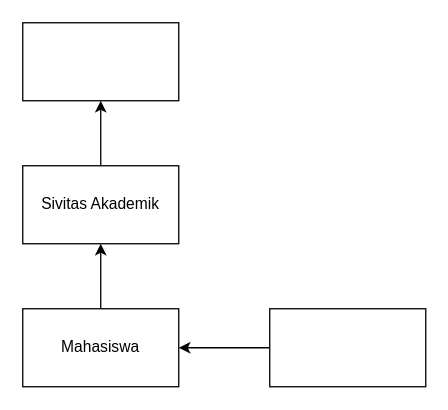
Image size: 448x410. Some labels were removed from this diagram. The box of each missing label's shape, as (x1, y1, x2, y2) in pixels:
Human: (21, 21, 179, 101)
Main: (268, 307, 426, 387)
